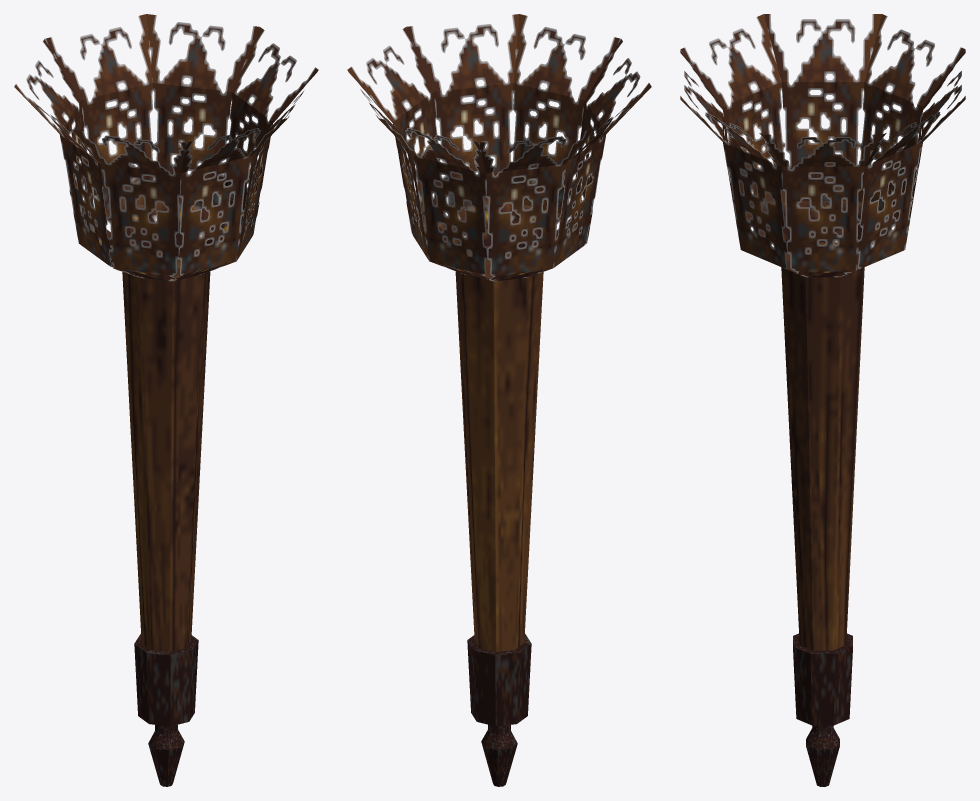
The model's file is SM_Dungeon_Torch.fbx.
3 views of the same model, side by side, from view 1: azimuth 30°, elevation 25°; view 2: azimuth 150°, elevation 25°; view 3: azimuth 270°, elevation 25° (orthographic).
Parts seen in each view (by area): view 1: SM_Dungeon_Torch; view 2: SM_Dungeon_Torch; view 3: SM_Dungeon_Torch.
Boxes of the visible parts, x1,y1,x2,y2 form: SM_Dungeon_Torch: (14, 14, 318, 786); SM_Dungeon_Torch: (347, 14, 651, 786); SM_Dungeon_Torch: (680, 14, 965, 786).
Size of the model in its own units: 25.08 by 68.81 by 25.08.
